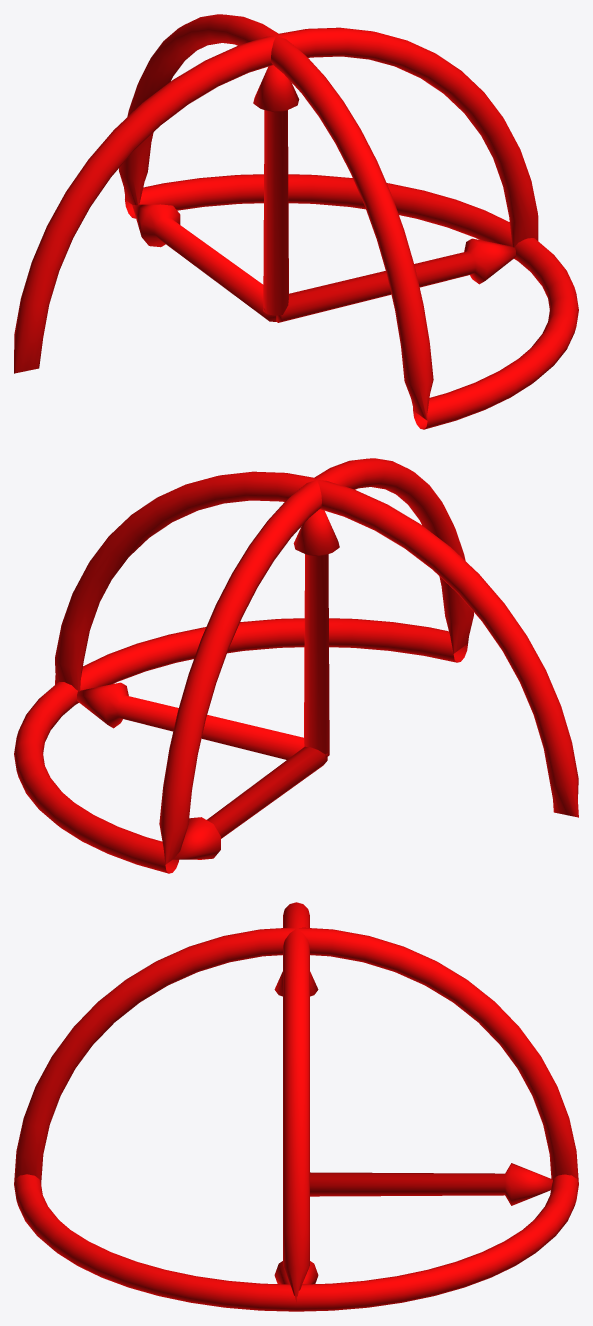
File: CollidersFBX.fbx
The picture shows the model from 3 angles, top to bottom: view 1: azimuth 30°, elevation 25°; view 2: azimuth 150°, elevation 25°; view 3: azimuth 270°, elevation 25°; orthographic projection. The views are drawn at different scales.
Parts seen in each view (by area): view 1: Collider_r_z, Collider_r_x, Collider_r_y, Collider_m_y, Collider_m_x, Collider_m_z; view 2: Collider_r_z, Collider_r_x, Collider_r_y, Collider_m_y, Collider_m_x, Collider_m_z; view 3: Collider_r_x, Collider_r_y, Collider_r_z, Collider_m_z.
Boxes of the visible parts, bbox=[...] form: Collider_r_z: bbox=[14, 27, 538, 373]; Collider_r_x: bbox=[119, 14, 433, 420]; Collider_r_y: bbox=[125, 174, 578, 429]; Collider_m_y: bbox=[253, 65, 299, 315]; Collider_m_x: bbox=[276, 238, 515, 322]; Collider_m_z: bbox=[132, 204, 276, 321]; Collider_r_z: bbox=[55, 471, 578, 817]; Collider_r_x: bbox=[159, 458, 473, 864]; Collider_r_y: bbox=[14, 618, 467, 873]; Collider_m_y: bbox=[293, 509, 339, 757]; Collider_m_x: bbox=[77, 682, 304, 759]; Collider_m_z: bbox=[173, 746, 327, 859]; Collider_r_x: bbox=[14, 927, 578, 1183]; Collider_r_y: bbox=[14, 1174, 578, 1311]; Collider_r_z: bbox=[283, 902, 309, 1302]; Collider_m_z: bbox=[310, 1163, 552, 1205].
Size of the model in its own units: 2.1 by 2.1 by 1.13.
